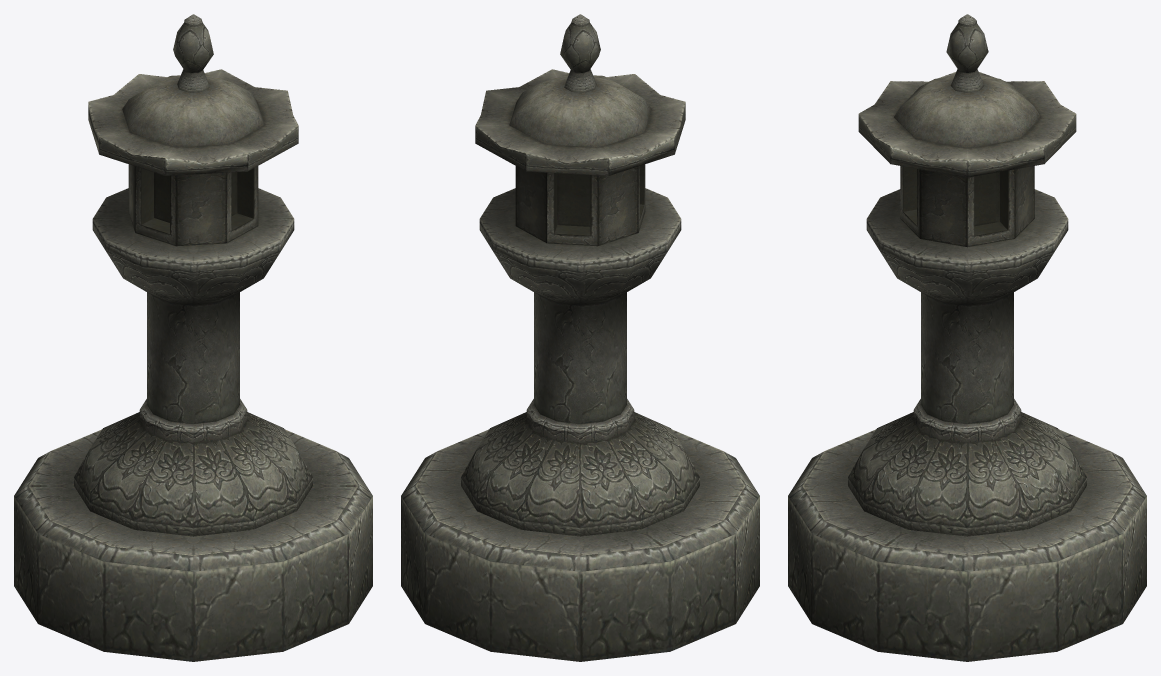
Rendered from dawnmist_light.fbx.
3 views of the same model, side by side, from view 1: azimuth 30°, elevation 25°; view 2: azimuth 150°, elevation 25°; view 3: azimuth 270°, elevation 25° (orthographic).
Visible parts, largest first — view 1: DawnMist_light; view 2: DawnMist_light; view 3: DawnMist_light.
Boxes of the visible parts, x1,y1,x2,y2 form: DawnMist_light: (14,14,372,661); DawnMist_light: (401,14,759,661); DawnMist_light: (788,14,1146,661).
Size of the model in its own units: 2.23 by 3.93 by 2.23.
